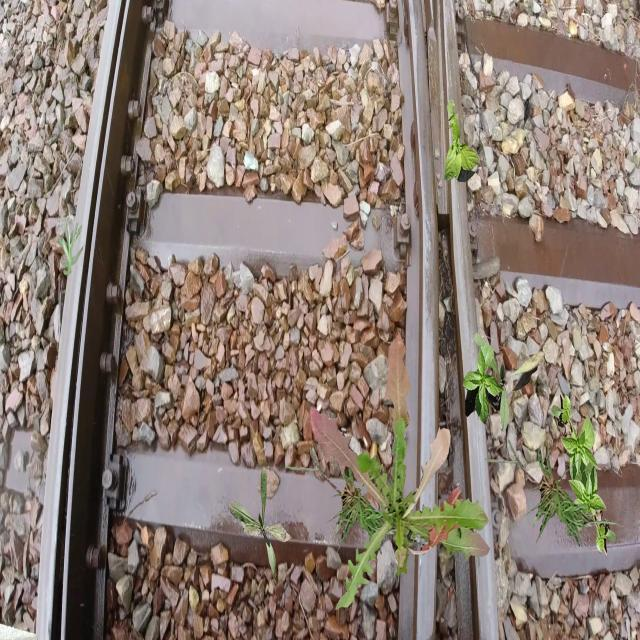Plant: (310, 332, 490, 610), (484, 428, 628, 548), (286, 436, 429, 556), (228, 468, 292, 580), (473, 332, 544, 432), (551, 392, 599, 487), (568, 461, 616, 556), (463, 345, 505, 425), (444, 99, 479, 182), (57, 220, 84, 276)
